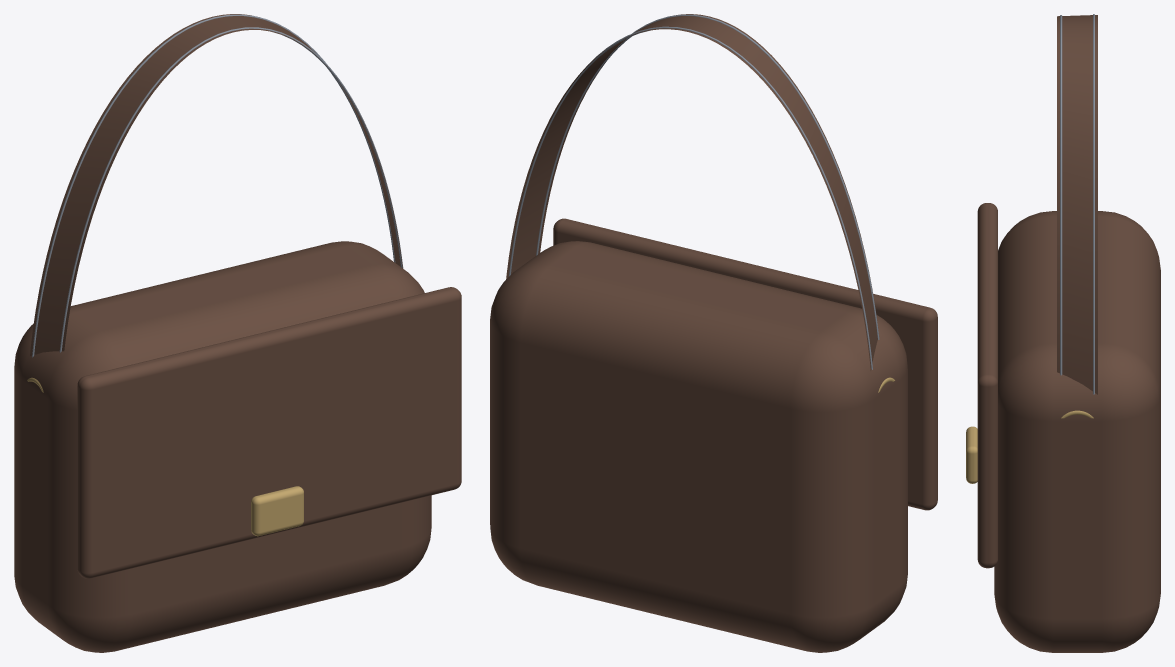
Rendered from atelier_shoulder_bag.glb.
3 renders of one model, left to right at view 1: azimuth 30°, elevation 25°; view 2: azimuth 150°, elevation 25°; view 3: azimuth 270°, elevation 25°, orthographic. The views are drawn at different scales.
Visible parts, largest first — view 1: shoulderbag:ShoulderBagV5_GrainLeather, shoulderbag:Atelier_TonalStitch, shoulderbag:Atelier_BrushedBrass; view 2: shoulderbag:ShoulderBagV5_GrainLeather, shoulderbag:Atelier_TonalStitch; view 3: shoulderbag:ShoulderBagV5_GrainLeather, shoulderbag:Atelier_TonalStitch, shoulderbag:Atelier_BrushedBrass.
Boxes of the visible parts, <box> form: shoulderbag:ShoulderBagV5_GrainLeather: <box>14,14,461,652</box>; shoulderbag:Atelier_TonalStitch: <box>32,14,403,357</box>; shoulderbag:Atelier_BrushedBrass: <box>27,377,303,536</box>; shoulderbag:ShoulderBagV5_GrainLeather: <box>490,14,937,652</box>; shoulderbag:Atelier_TonalStitch: <box>508,14,879,369</box>; shoulderbag:ShoulderBagV5_GrainLeather: <box>977,15,1160,652</box>; shoulderbag:Atelier_TonalStitch: <box>1060,14,1094,394</box>; shoulderbag:Atelier_BrushedBrass: <box>966,410,1093,483</box>.
Size of the model in its own units: 0.165 by 0.2409 by 0.076.
